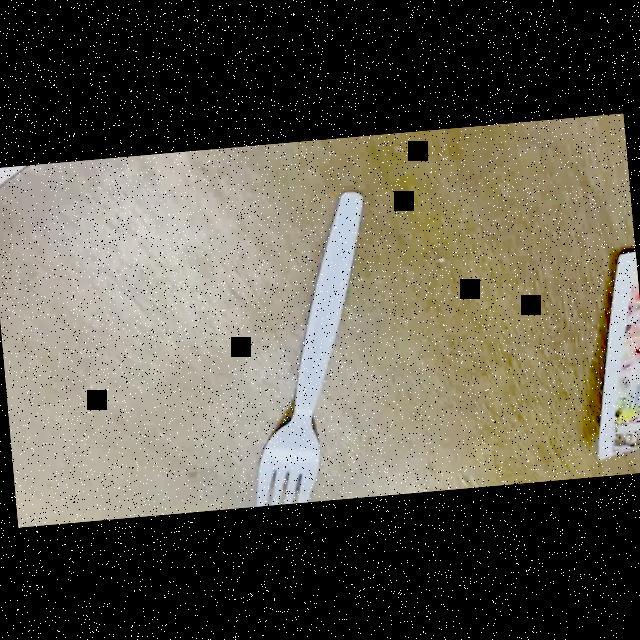plastic_cultery: (228, 187, 390, 506)
